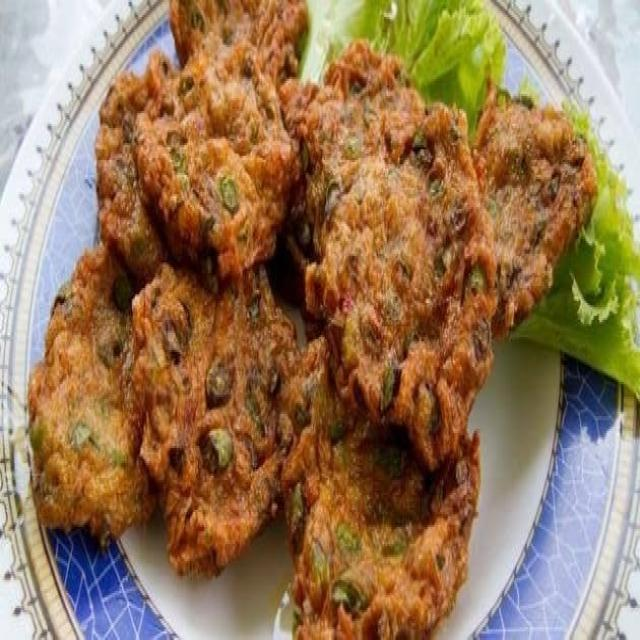Kebab: (24, 0, 599, 640)
